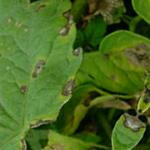Tomato Early blight leaf: (0, 0, 109, 141)
